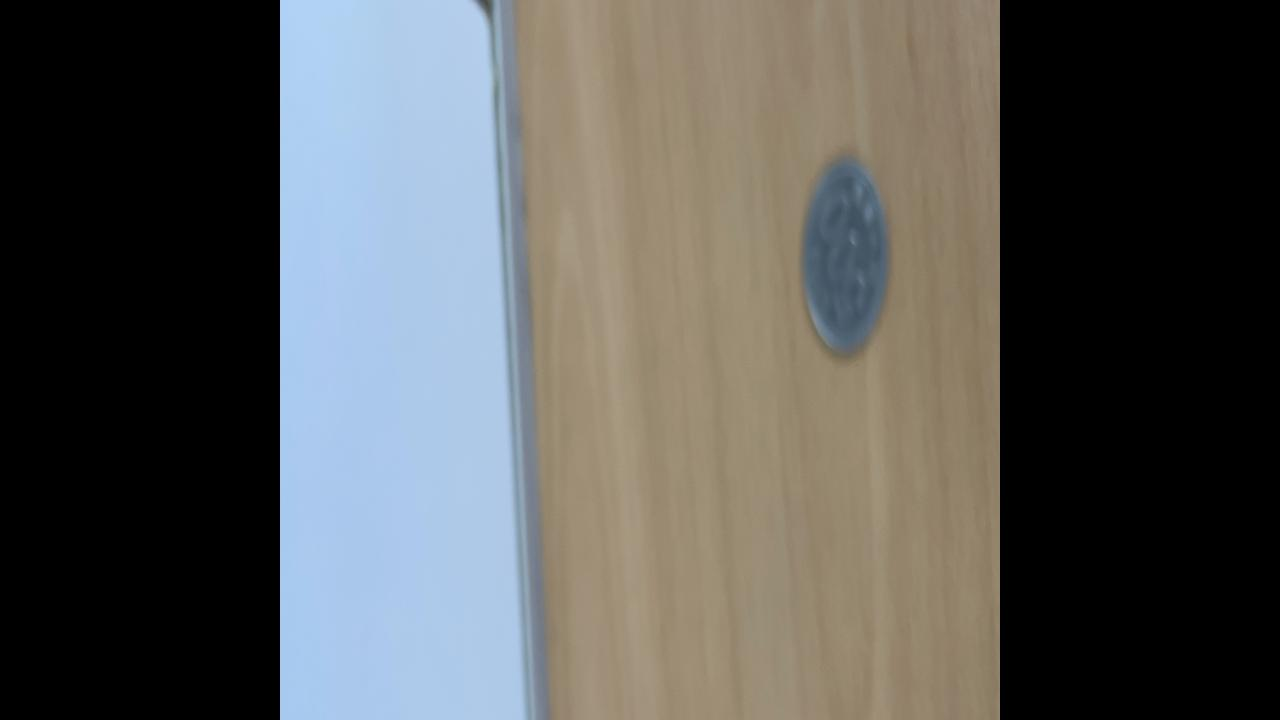coin: (800, 150, 890, 360)
